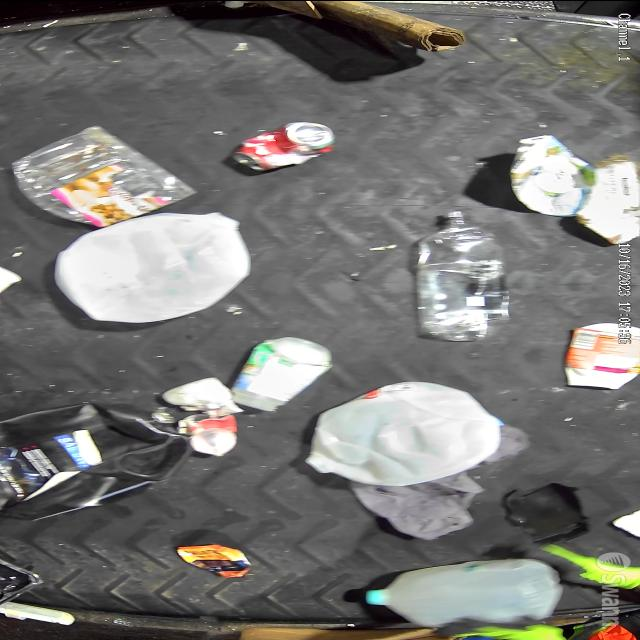can: (236, 119, 336, 171), (188, 414, 242, 458)
milk_jug: (56, 211, 250, 325), (312, 381, 509, 487), (368, 560, 561, 624)
non_white_jug: (0, 398, 198, 518)
plastic_bottle: (406, 211, 511, 340)
